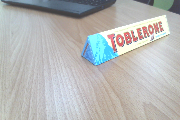Chocolate: (69, 17, 174, 66)
